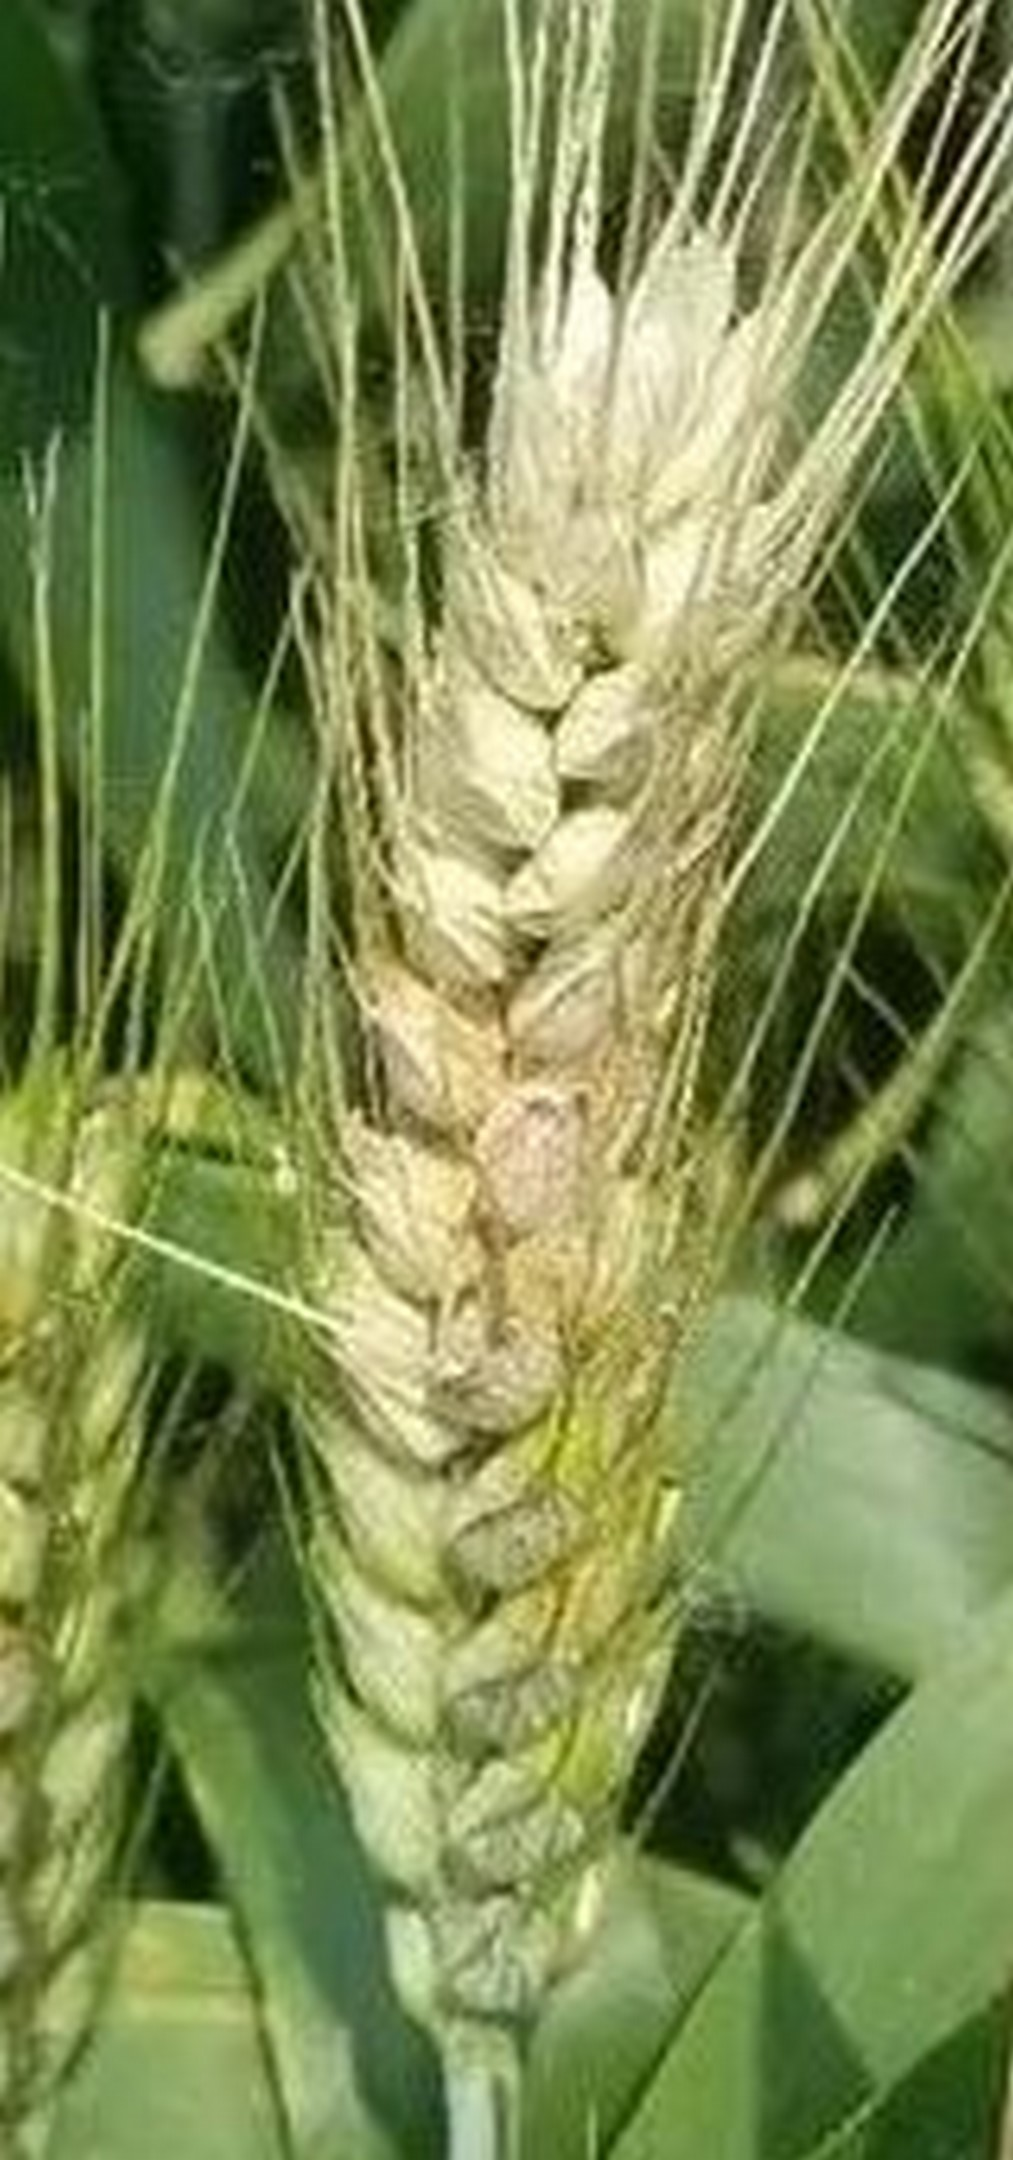Wheat scab: (267, 238, 868, 2003)
